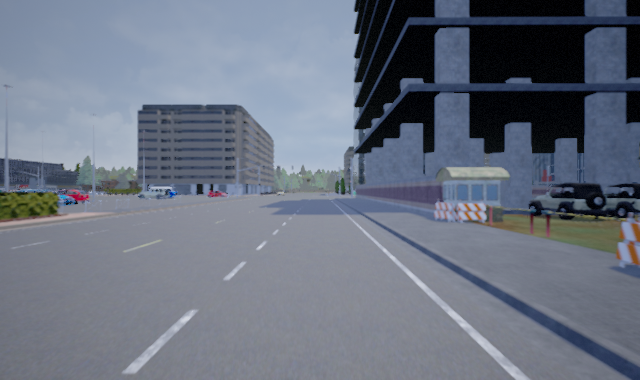vehicle: (528, 181, 607, 220), (600, 183, 640, 218), (17, 190, 77, 205), (42, 189, 91, 204), (138, 186, 173, 198), (207, 191, 227, 198)
